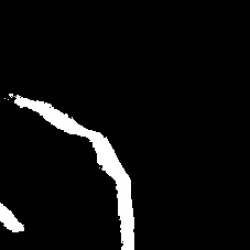crack: (9, 92, 135, 247), (2, 203, 23, 233)
